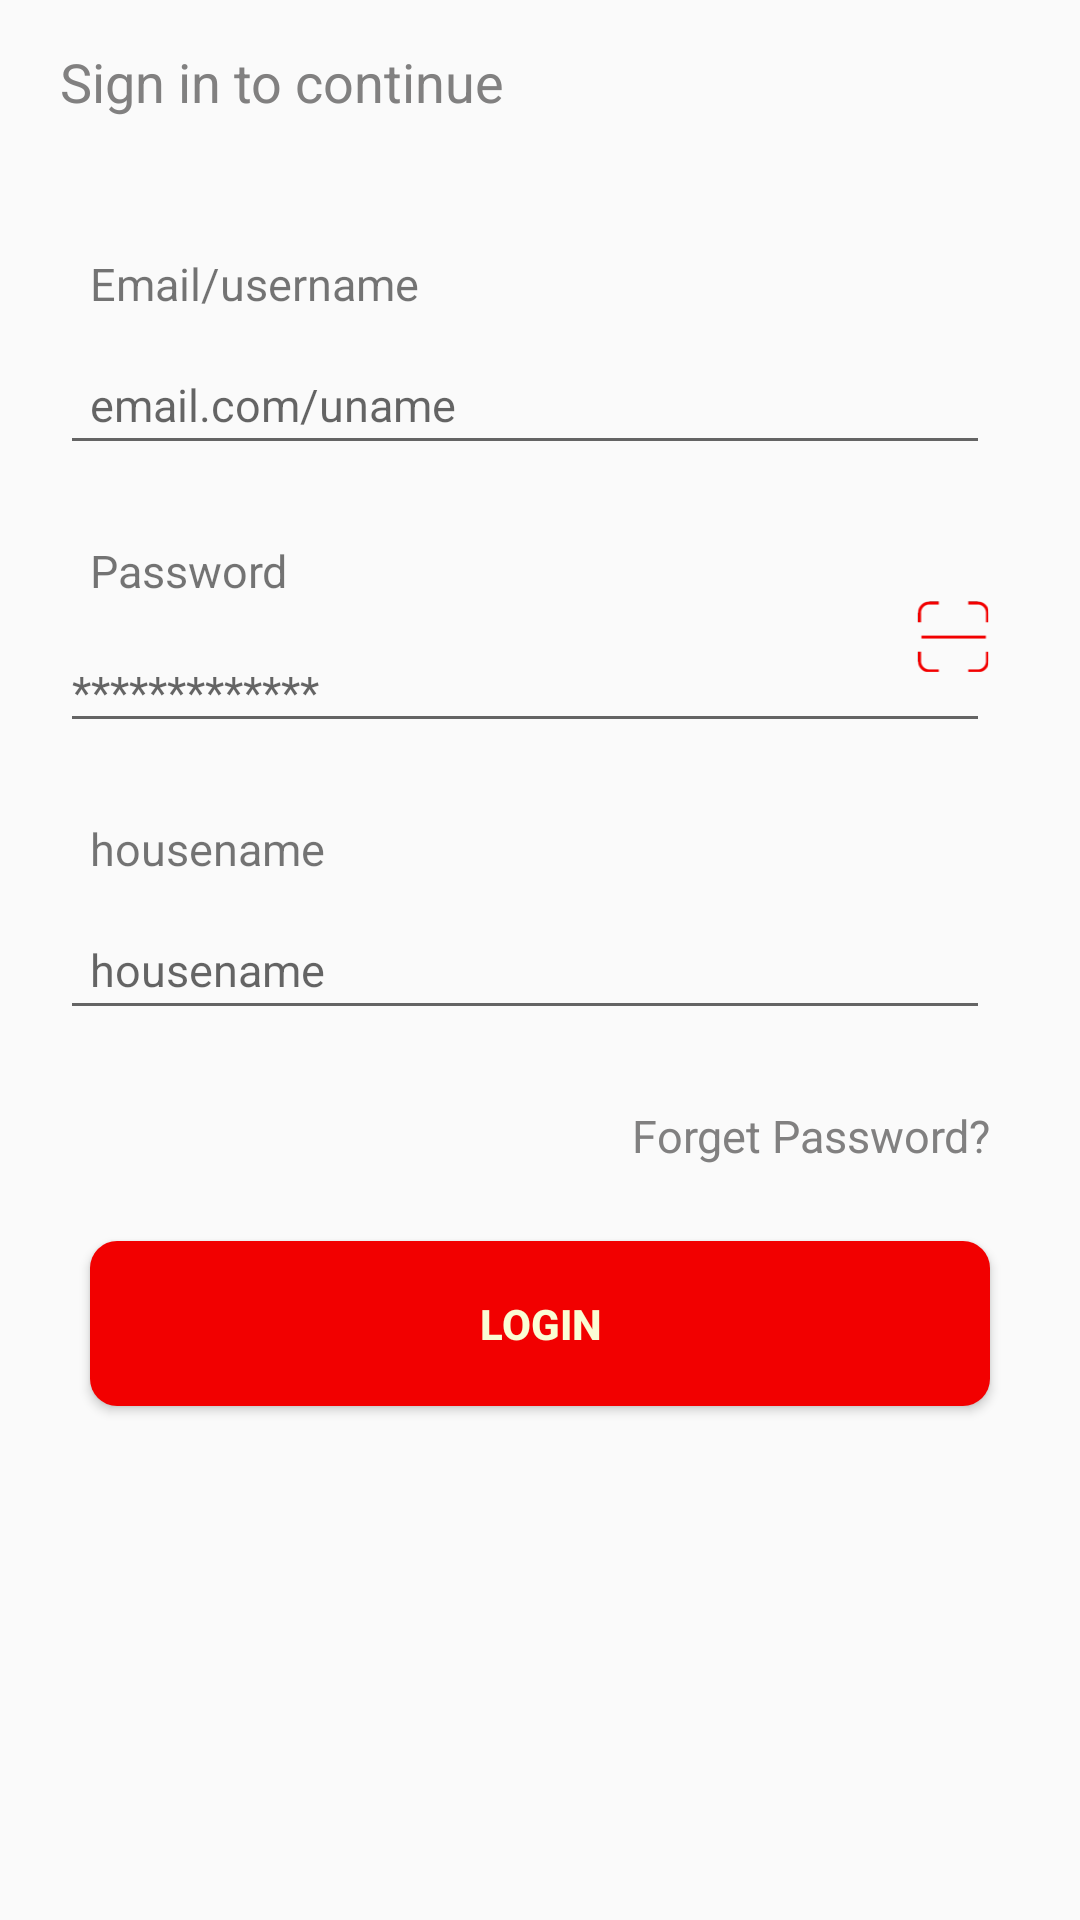

Where icons sit on this 1080×1920 app screen, as (x1, y1, x2, y2):
scan: (917, 601, 989, 672)
